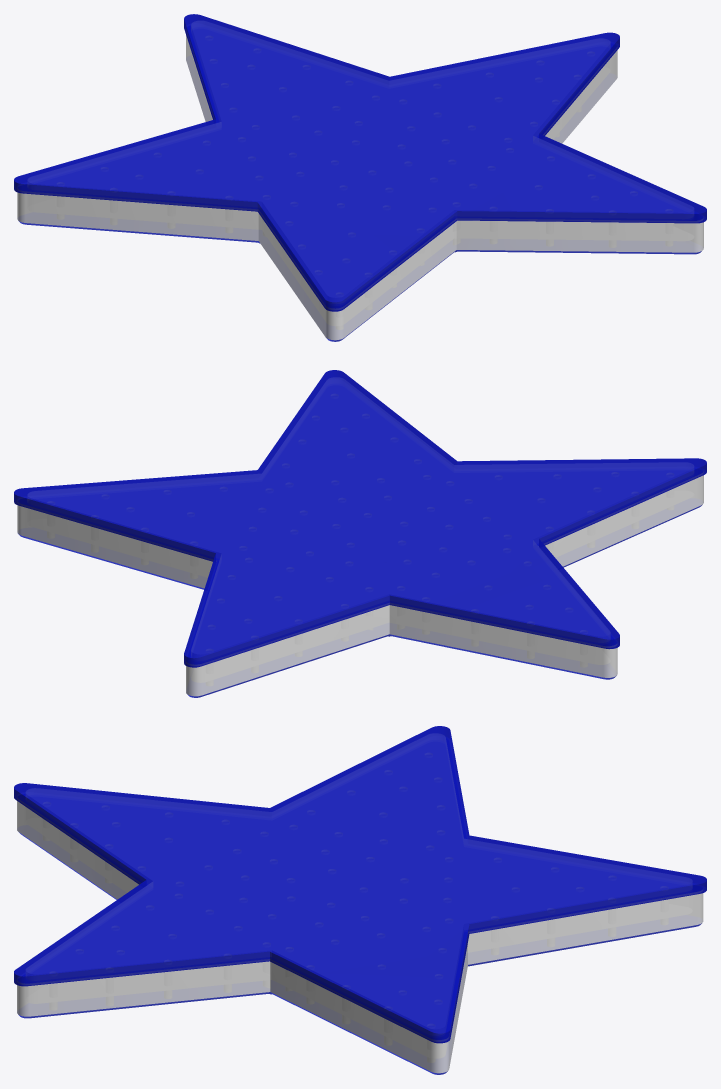
Rendered from m_Star_light.FBX.
3 renders of one model, top to bottom at view 1: azimuth 30°, elevation 25°; view 2: azimuth 150°, elevation 25°; view 3: azimuth 270°, elevation 25°, orthographic. The views are drawn at different scales.
Visible parts, largest first — view 1: Star_light2, Star_light, Star_light3; view 2: Star_light2, Star_light, Star_light3; view 3: Star_light2, Star_light, Star_light3.
Part boxes in pixels (x1=…): Star_light2: x1=14, y1=14, x2=706, y2=311; Star_light: x1=17, y1=24, x2=703, y2=341; Star_light3: x1=28, y1=21, x2=693, y2=212; Star_light2: x1=14, y1=370, x2=706, y2=667; Star_light: x1=17, y1=467, x2=703, y2=697; Star_light3: x1=28, y1=378, x2=693, y2=653; Star_light2: x1=14, y1=726, x2=706, y2=1043; Star_light: x1=17, y1=737, x2=703, y2=1074; Star_light3: x1=26, y1=734, x2=691, y2=973.
Size of the model in its own units: 25.78 by 3.81 by 24.56.
